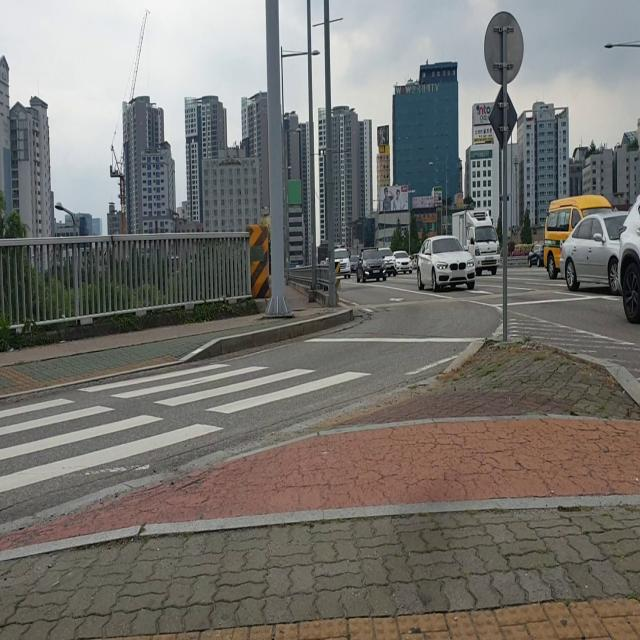횡단보도: (0, 359, 371, 499)
